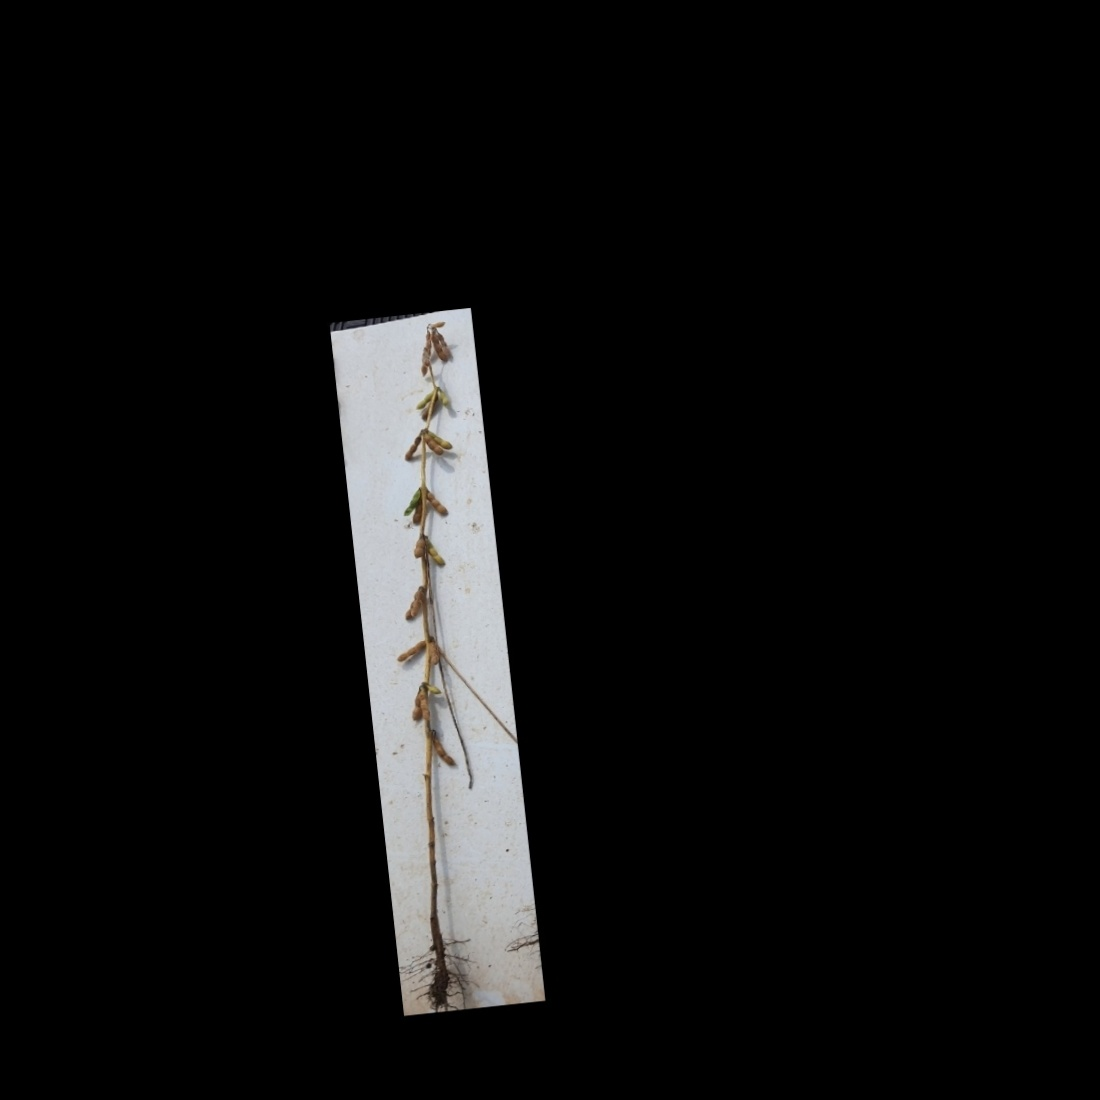pod: (393, 636, 430, 664), (429, 730, 456, 768), (423, 538, 448, 568), (400, 432, 424, 462), (423, 487, 447, 517), (424, 637, 440, 666), (421, 680, 444, 698), (410, 536, 427, 560), (438, 388, 453, 409), (429, 319, 447, 330)
soy: (345, 311, 530, 1003)
